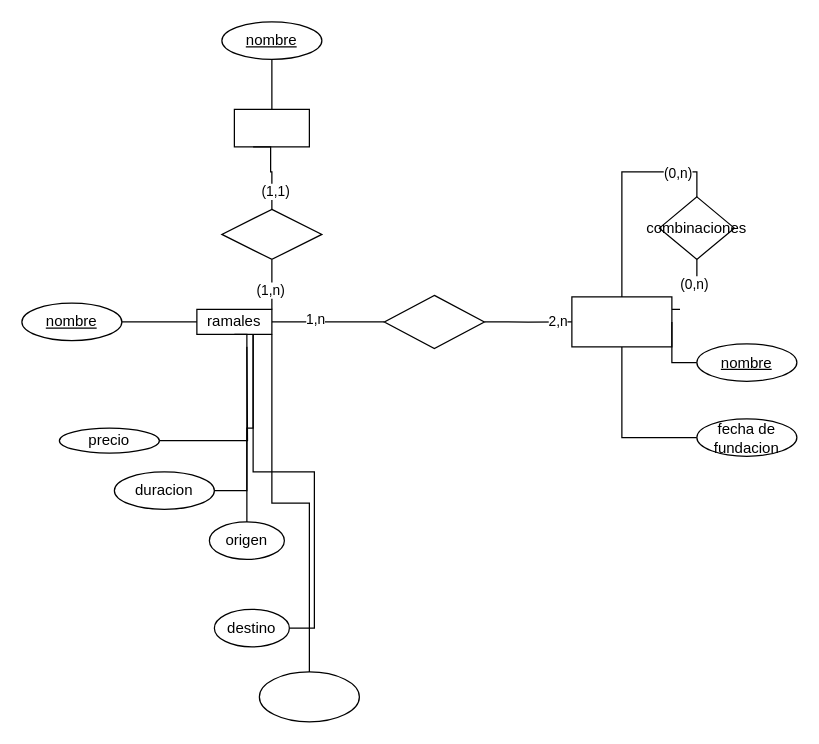
This 819x744 diagram has some shape labels left out. Each missing label, with the box of its shape:
cantidad de trenes: (258, 671, 359, 722)
compuesto por: (221, 208, 322, 259)
estaciones: (571, 296, 672, 347)
ferrocarr il: (233, 108, 309, 147)
pertenece: (383, 294, 484, 348)
